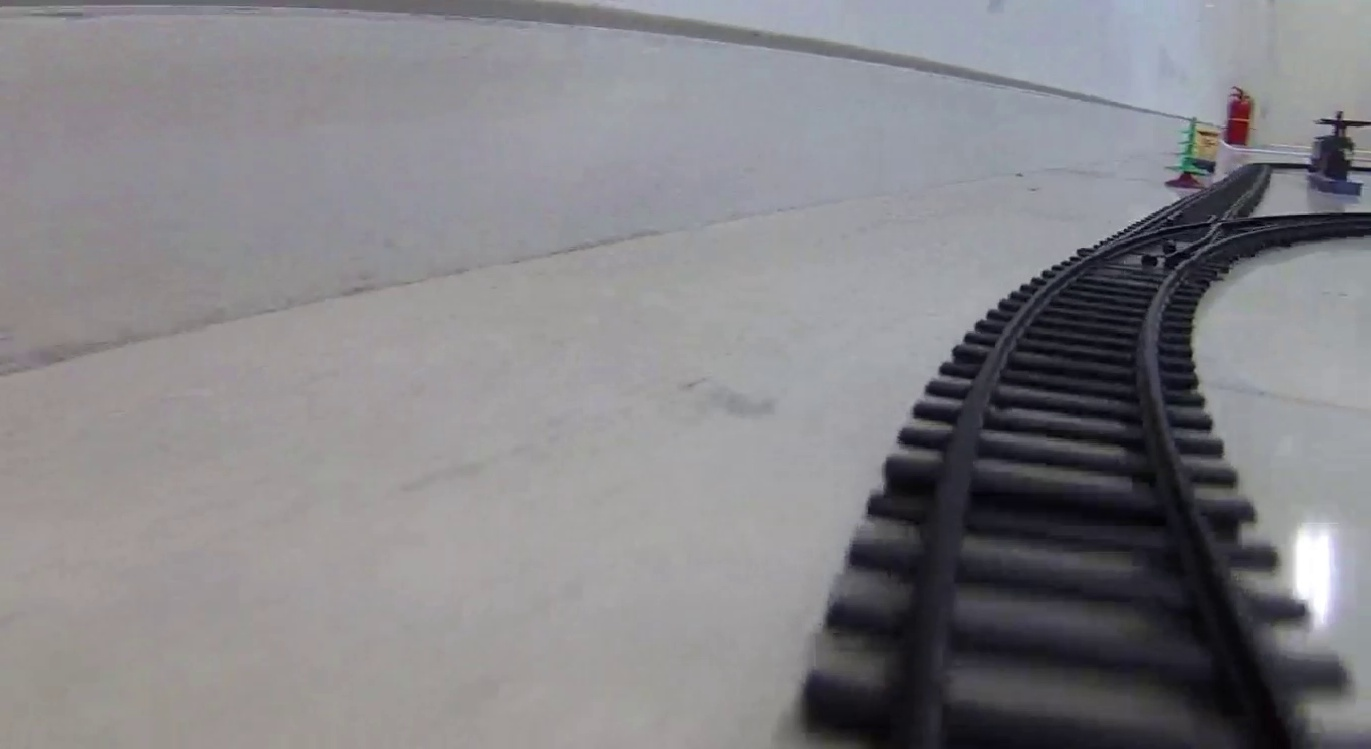tree: (1166, 116, 1209, 192)
